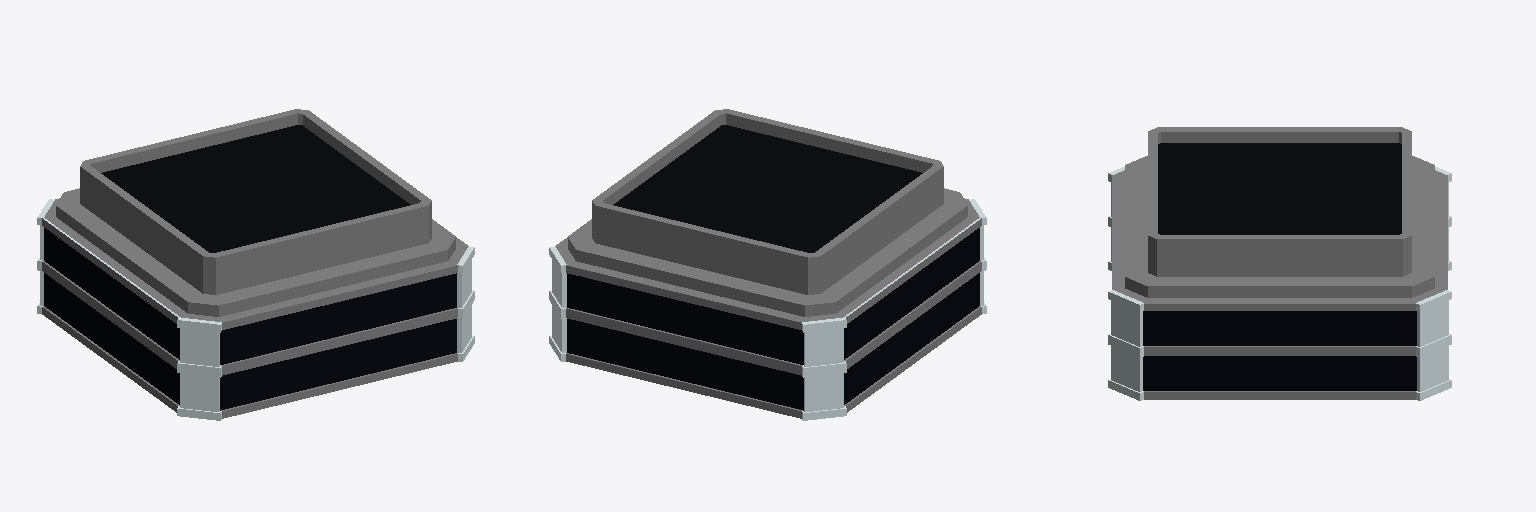
File: buildingD1.obj
3 renders of one model, left to right at view 1: azimuth 30°, elevation 25°; view 2: azimuth 150°, elevation 25°; view 3: azimuth 270°, elevation 25°, orthographic.
Parts seen in each view (by area): view 1: Cube.005_Cube.011; view 2: Cube.005_Cube.011; view 3: Cube.005_Cube.011.
Part boxes in pixels (bbox=[...]): Cube.005_Cube.011: bbox=[37, 109, 474, 420]; Cube.005_Cube.011: bbox=[549, 109, 986, 420]; Cube.005_Cube.011: bbox=[1108, 127, 1451, 400].
Bounding box in the file's own units: 9.97 × 4.66 × 9.97.